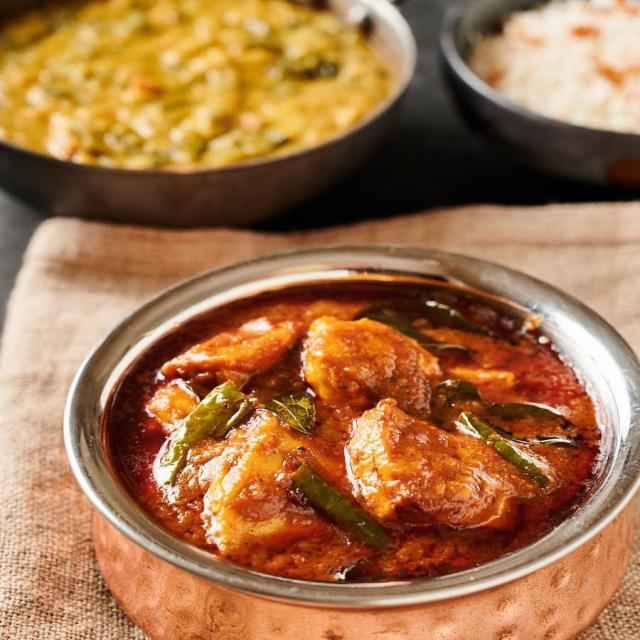chicken: (107, 250, 602, 593)
